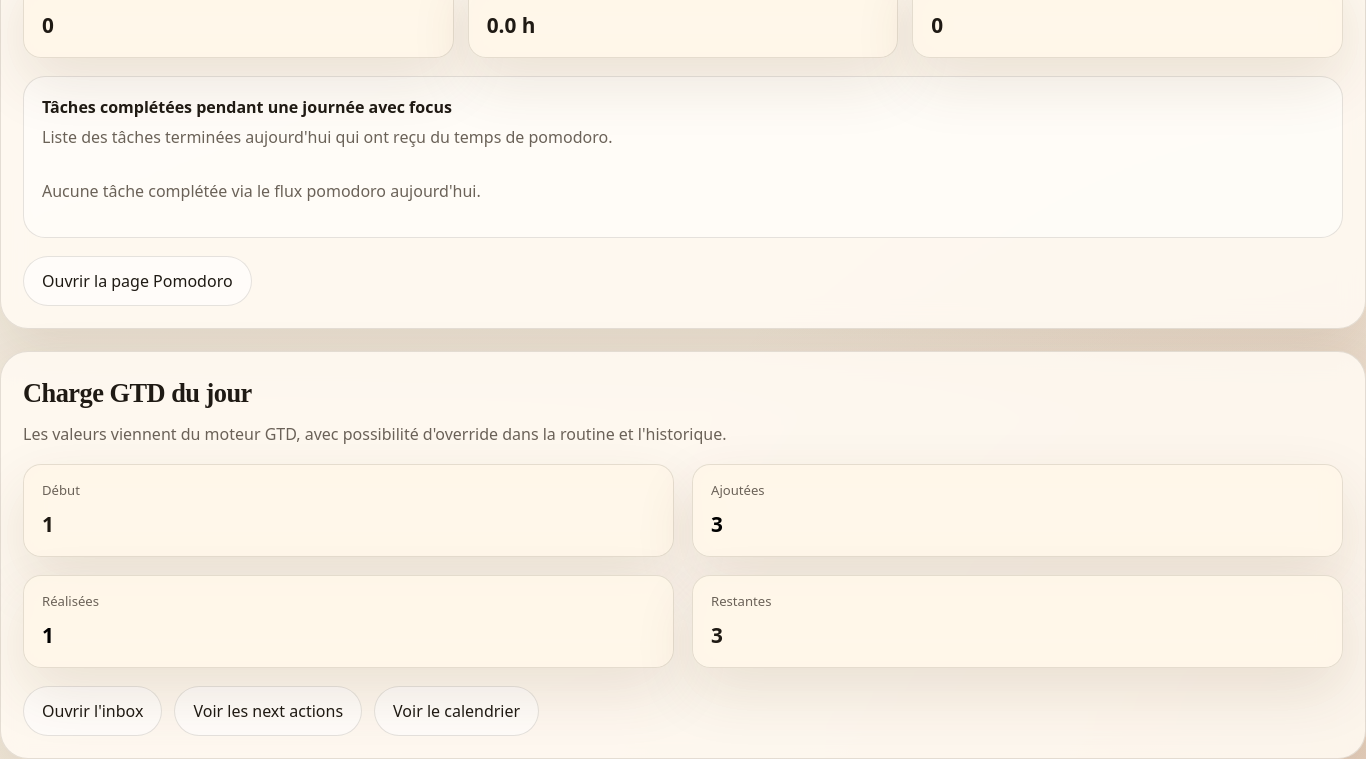
TodayPage › shows added and completed tasks when clicking GTD counters
(page scrolled)
Click the button "Ajoutées 3": (738, 490) top-left (692, 464), bottom-right (1343, 557)
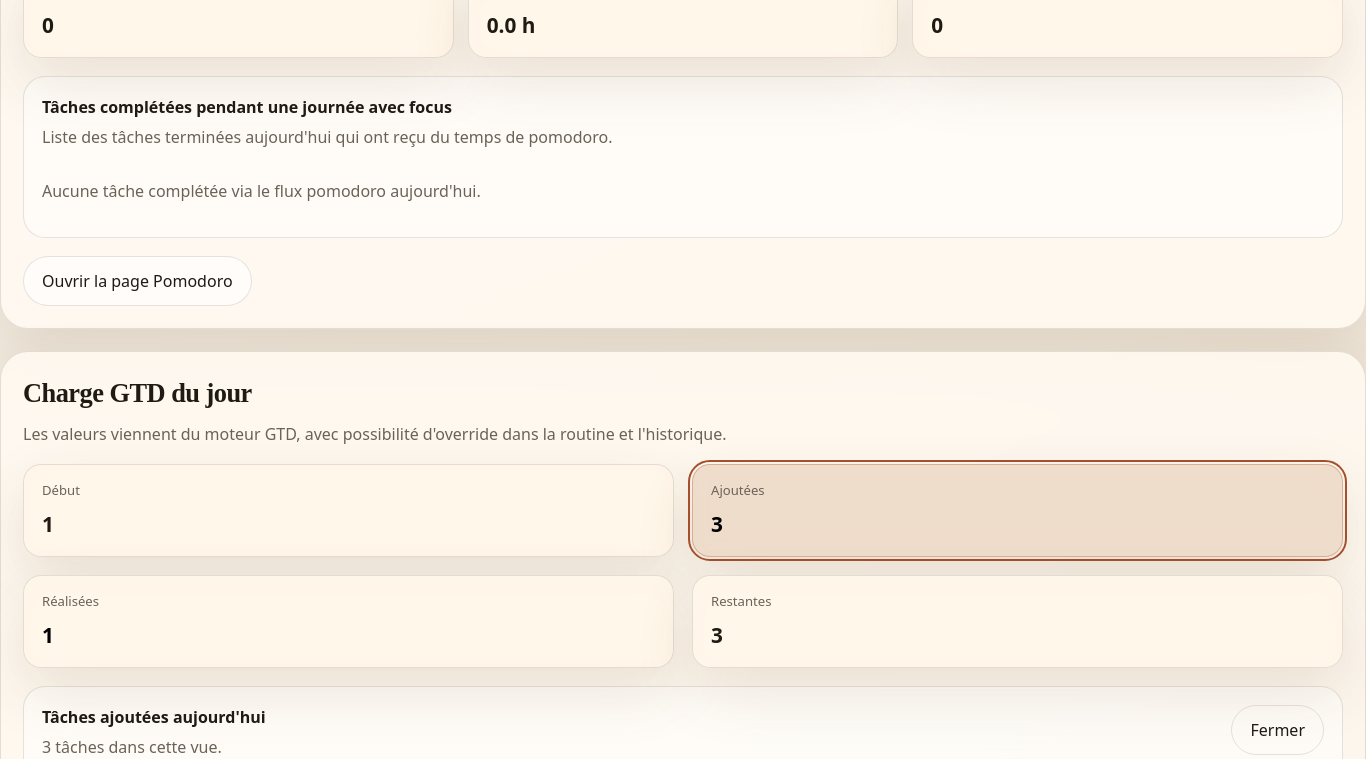
Click the button "Réalisées 1": (71, 601) top-left (23, 575), bottom-right (674, 668)
(page scrolled)
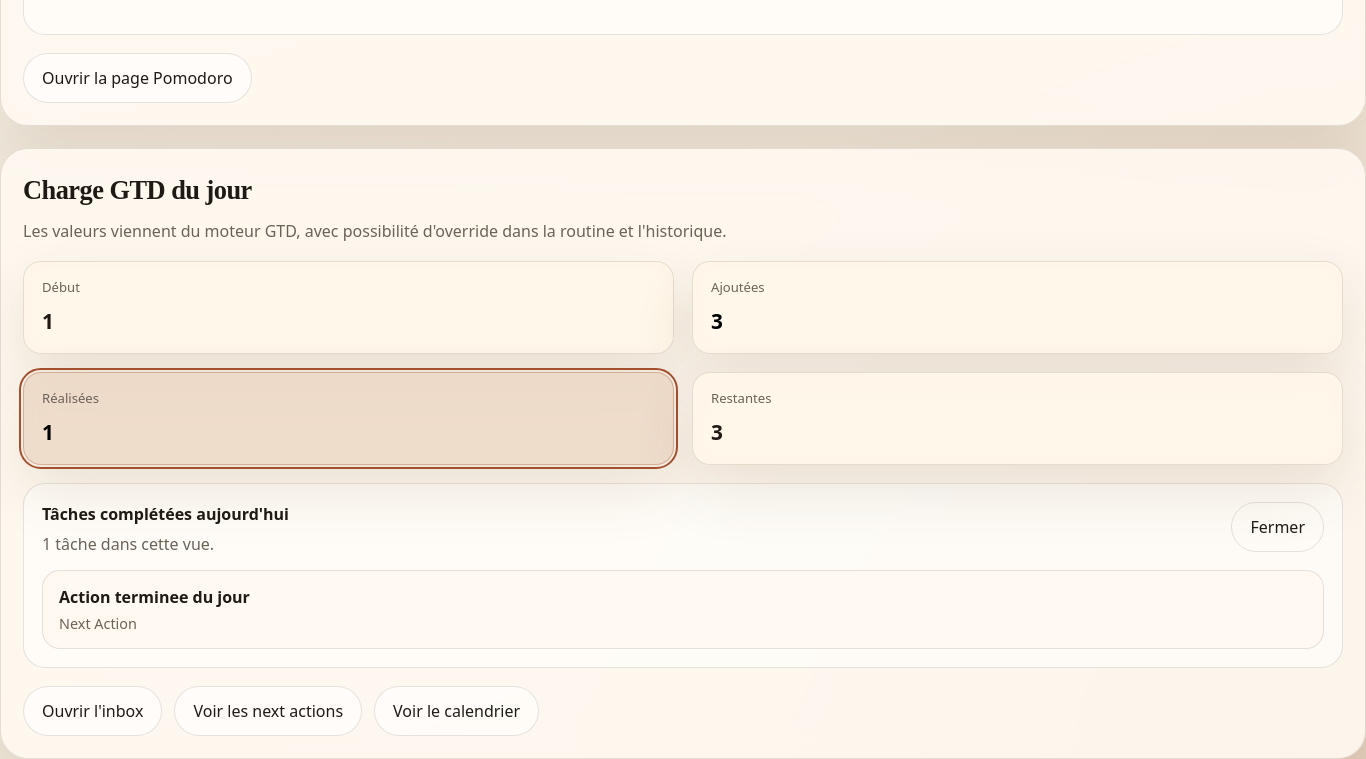
Result: the text "Action terminee du jour" is shown at top-left (59, 586), bottom-right (250, 608)
